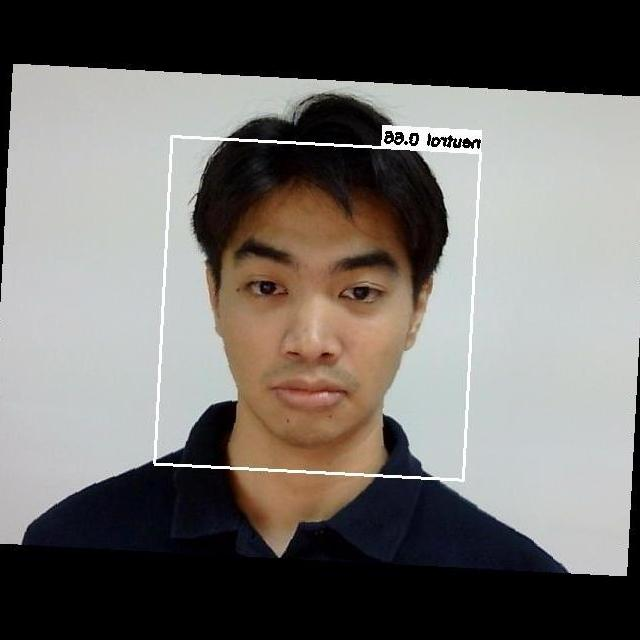Fear: (199, 206, 419, 425)
